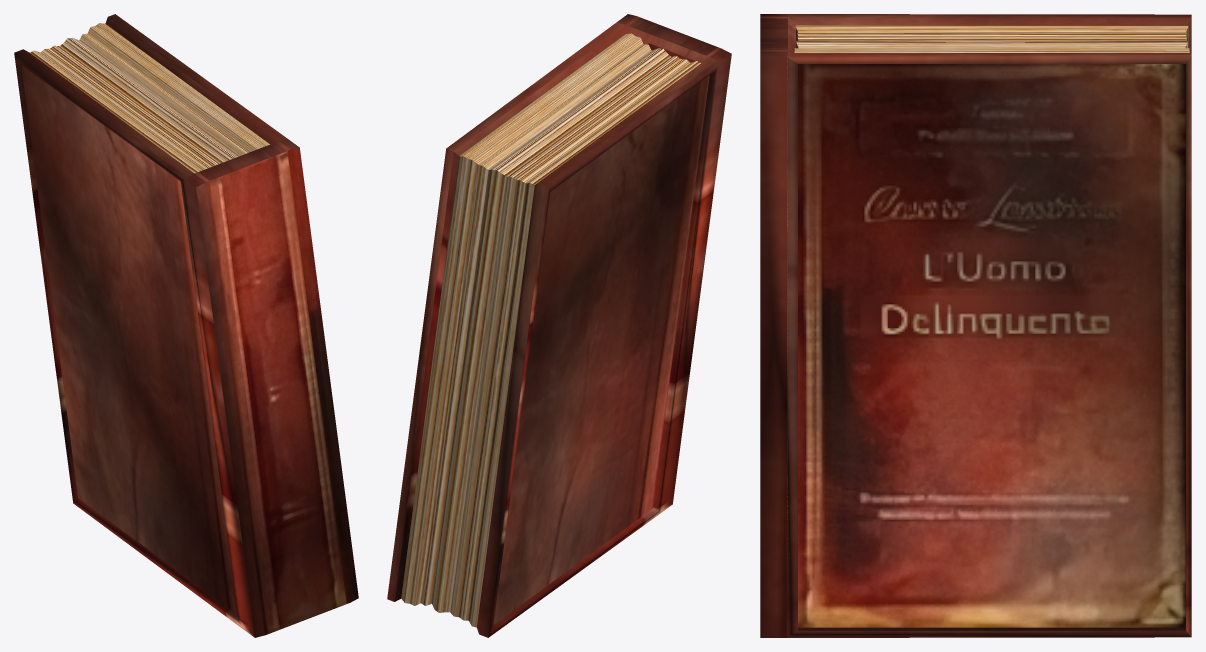
Rendered from libro.fbx.
The picture shows the model from 3 angles, left to right: view 1: azimuth 30°, elevation 25°; view 2: azimuth 150°, elevation 25°; view 3: azimuth 270°, elevation 25°; orthographic projection. The views are drawn at different scales.
Parts seen in each view (by area): view 1: librocopertina, libropagine; view 2: librocopertina, libropagine; view 3: librocopertina, libropagine.
Part boxes in pixels (box(x1,y1,x2,y2)): librocopertina: box(14, 14, 358, 637); libropagine: box(30, 23, 269, 173); librocopertina: box(387, 14, 731, 637); libropagine: box(401, 33, 700, 627); librocopertina: box(760, 14, 1191, 637); libropagine: box(794, 25, 1189, 52).
Bounding box in the file's own units: 10.93 × 30.77 × 21.31.
Materials: 2 (2 with a texture image).
